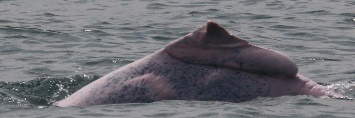fin: (44, 17, 333, 111)
